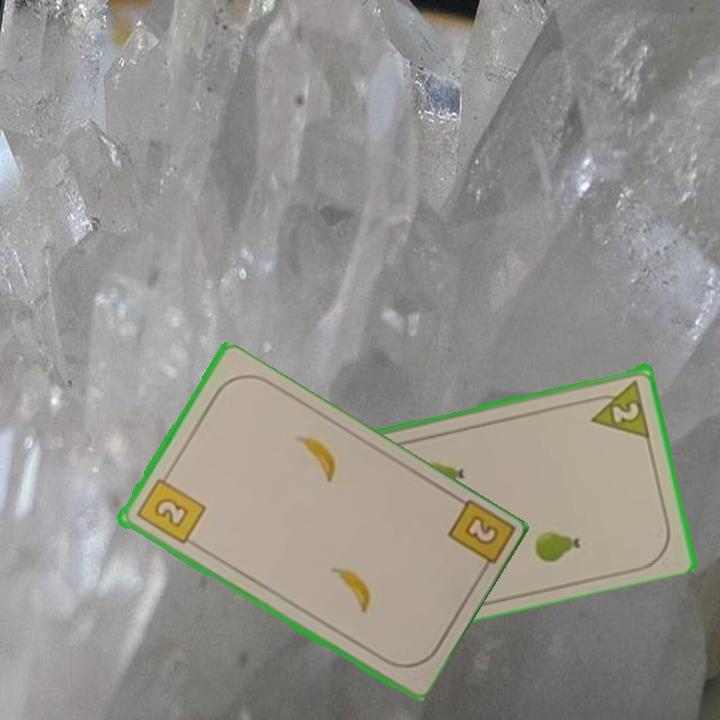2b: (132, 468, 208, 548), (443, 496, 514, 581)
2p: (584, 376, 653, 439)
